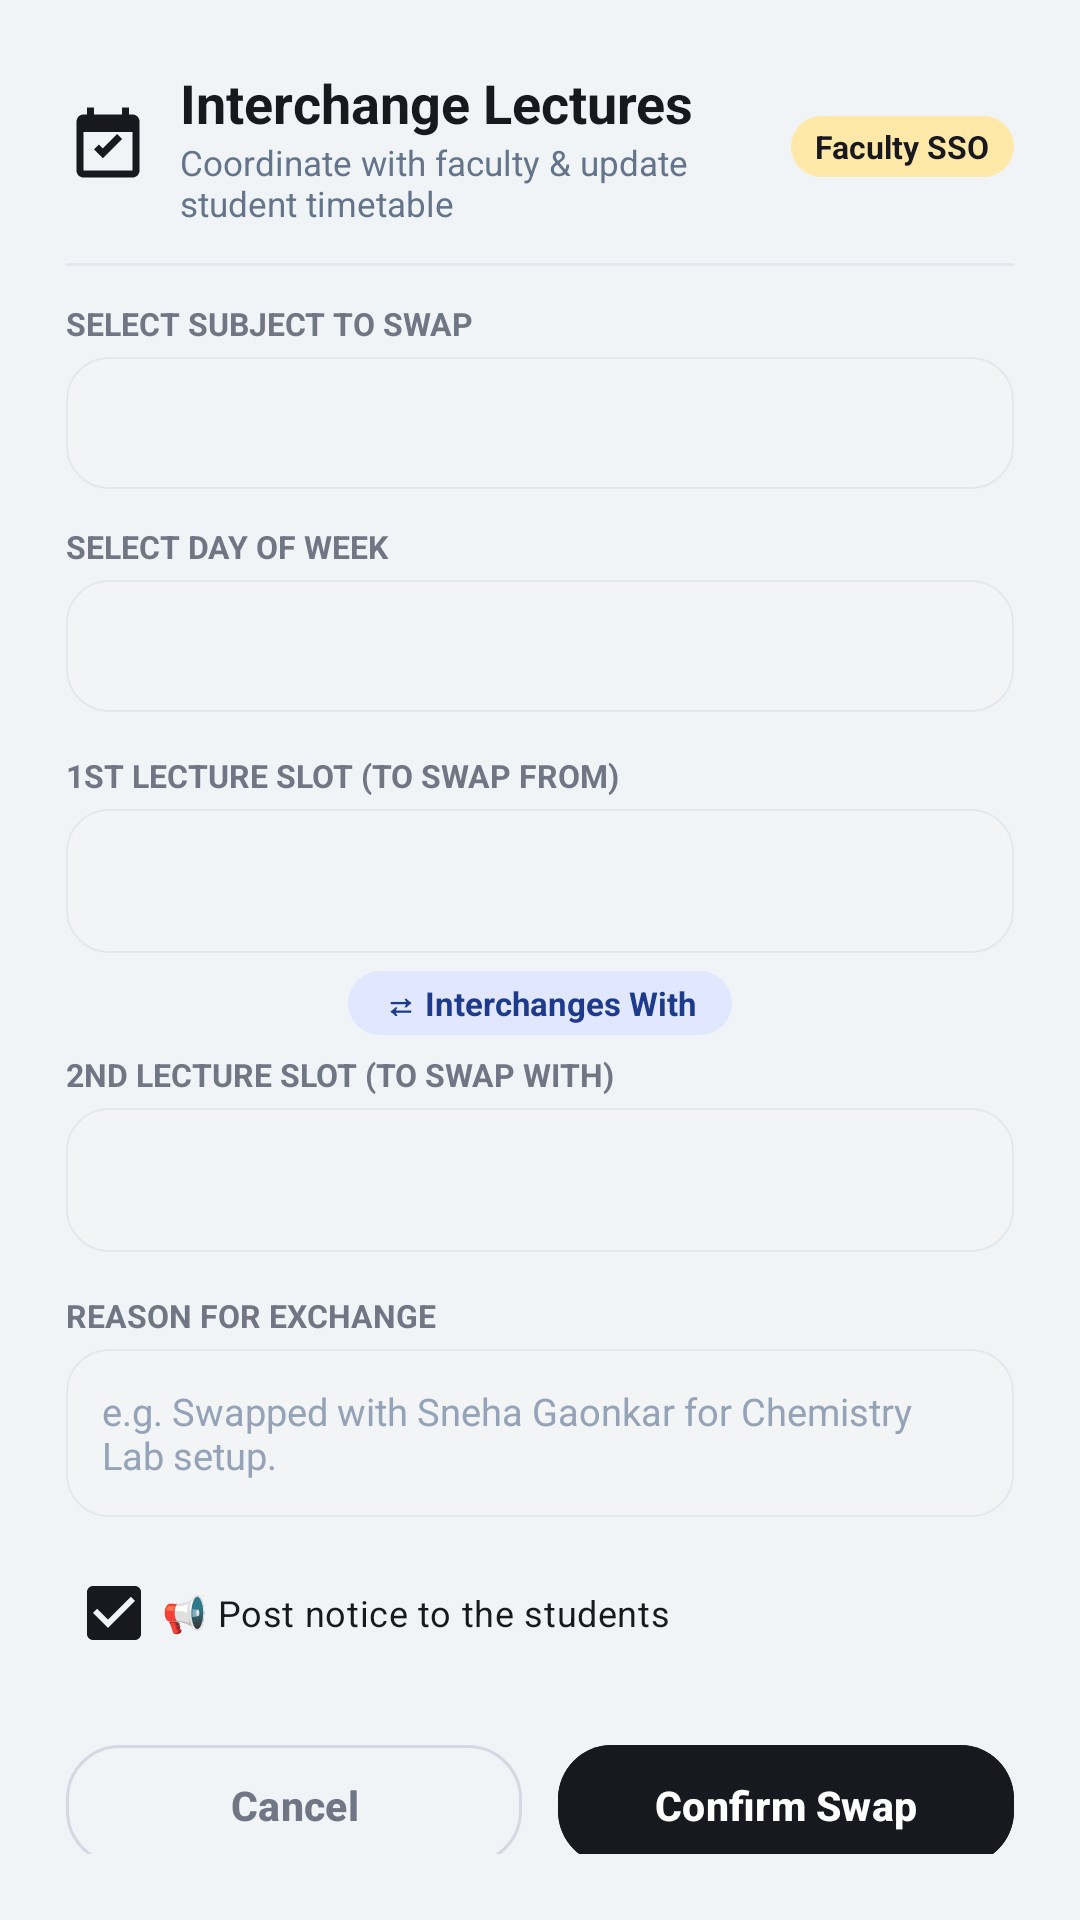

Named icons in this screenshot (1080x1920) and their centers, (x,y):
calendar event: (108,142)
